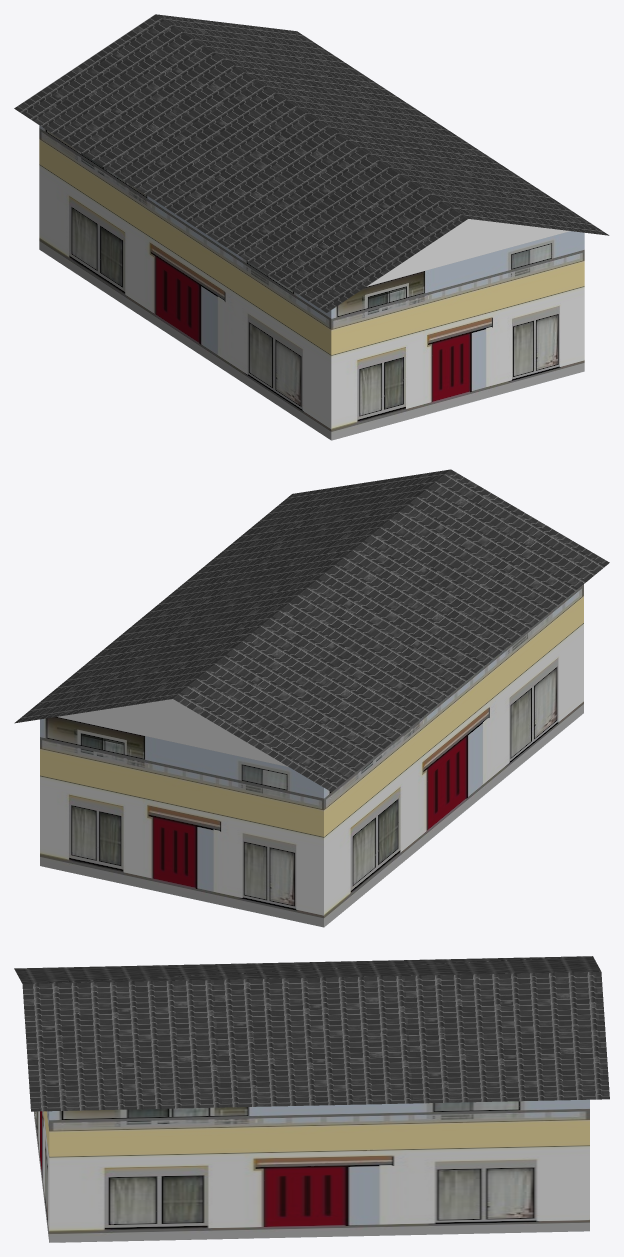
3 views of the same model, one above another, from view 1: azimuth 30°, elevation 25°; view 2: azimuth 150°, elevation 25°; view 3: azimuth 270°, elevation 25° (orthographic). The views are drawn at different scales.
Visible parts, largest first — view 1: CityEngineMaterial_16_m, CityEngineMaterial_15_m, CityEngineMaterial_3_m; view 2: CityEngineMaterial_16_m, CityEngineMaterial_15_m, CityEngineMaterial_3_m; view 3: CityEngineMaterial_16_m, CityEngineMaterial_15_m.
Boxes of the visible parts, x1,y1,x2,y2 form: CityEngineMaterial_16_m: (14, 14, 609, 312); CityEngineMaterial_15_m: (39, 125, 584, 440); CityEngineMaterial_3_m: (367, 219, 569, 286); CityEngineMaterial_16_m: (14, 469, 609, 791); CityEngineMaterial_15_m: (40, 584, 583, 927); CityEngineMaterial_3_m: (57, 699, 288, 766); CityEngineMaterial_16_m: (14, 956, 609, 1111); CityEngineMaterial_15_m: (34, 1099, 589, 1242).
Size of the model in its own units: 19.22 by 11.25 by 31.13.
